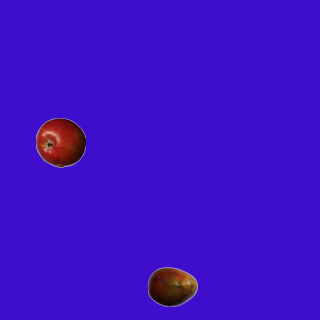Apple Braeburn: (35, 117, 85, 167)
Mango Red: (147, 261, 197, 311)
